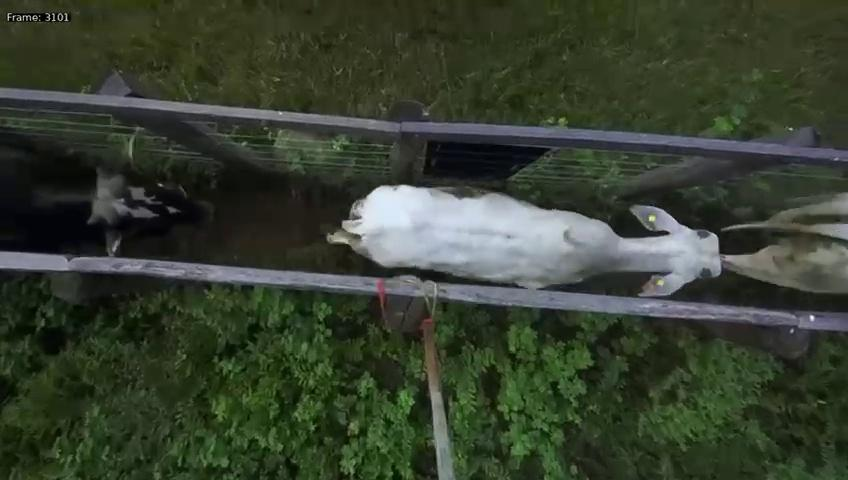cattle: (319, 176, 731, 316)
